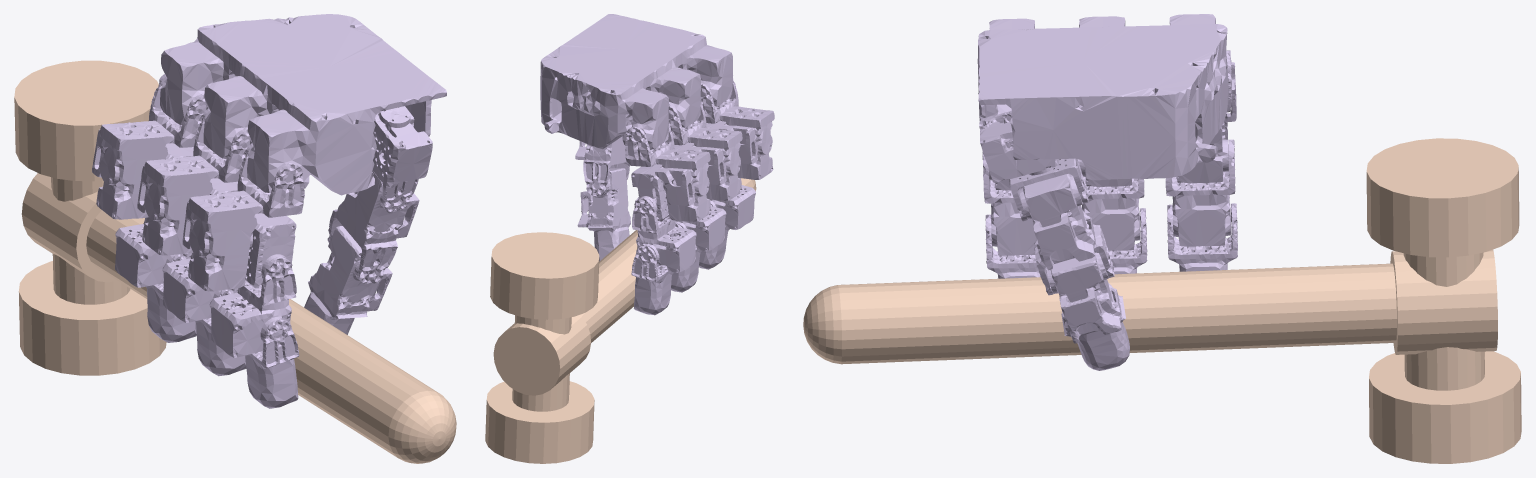
3 views of the same model, side by side, from view 1: azimuth 30°, elevation 25°; view 2: azimuth 150°, elevation 25°; view 3: azimuth 270°, elevation 25° (orthographic). The views are drawn at different scales.
Visible parts, largest first — view 1: LEAP_hand, world; view 2: LEAP_hand, world; view 3: world, LEAP_hand.
Boxes of the visible parts, left/top/right/bottom form: LEAP_hand: left=92, top=14, right=446, bottom=408; world: left=14, top=60, right=456, bottom=463; LEAP_hand: left=540, top=14, right=774, bottom=315; world: left=485, top=178, right=756, bottom=463; world: left=803, top=138, right=1521, bottom=463; LEAP_hand: left=977, top=14, right=1237, bottom=370.
Bounding box in the file's own units: 0.1412 × 0.2254 × 0.3577.
